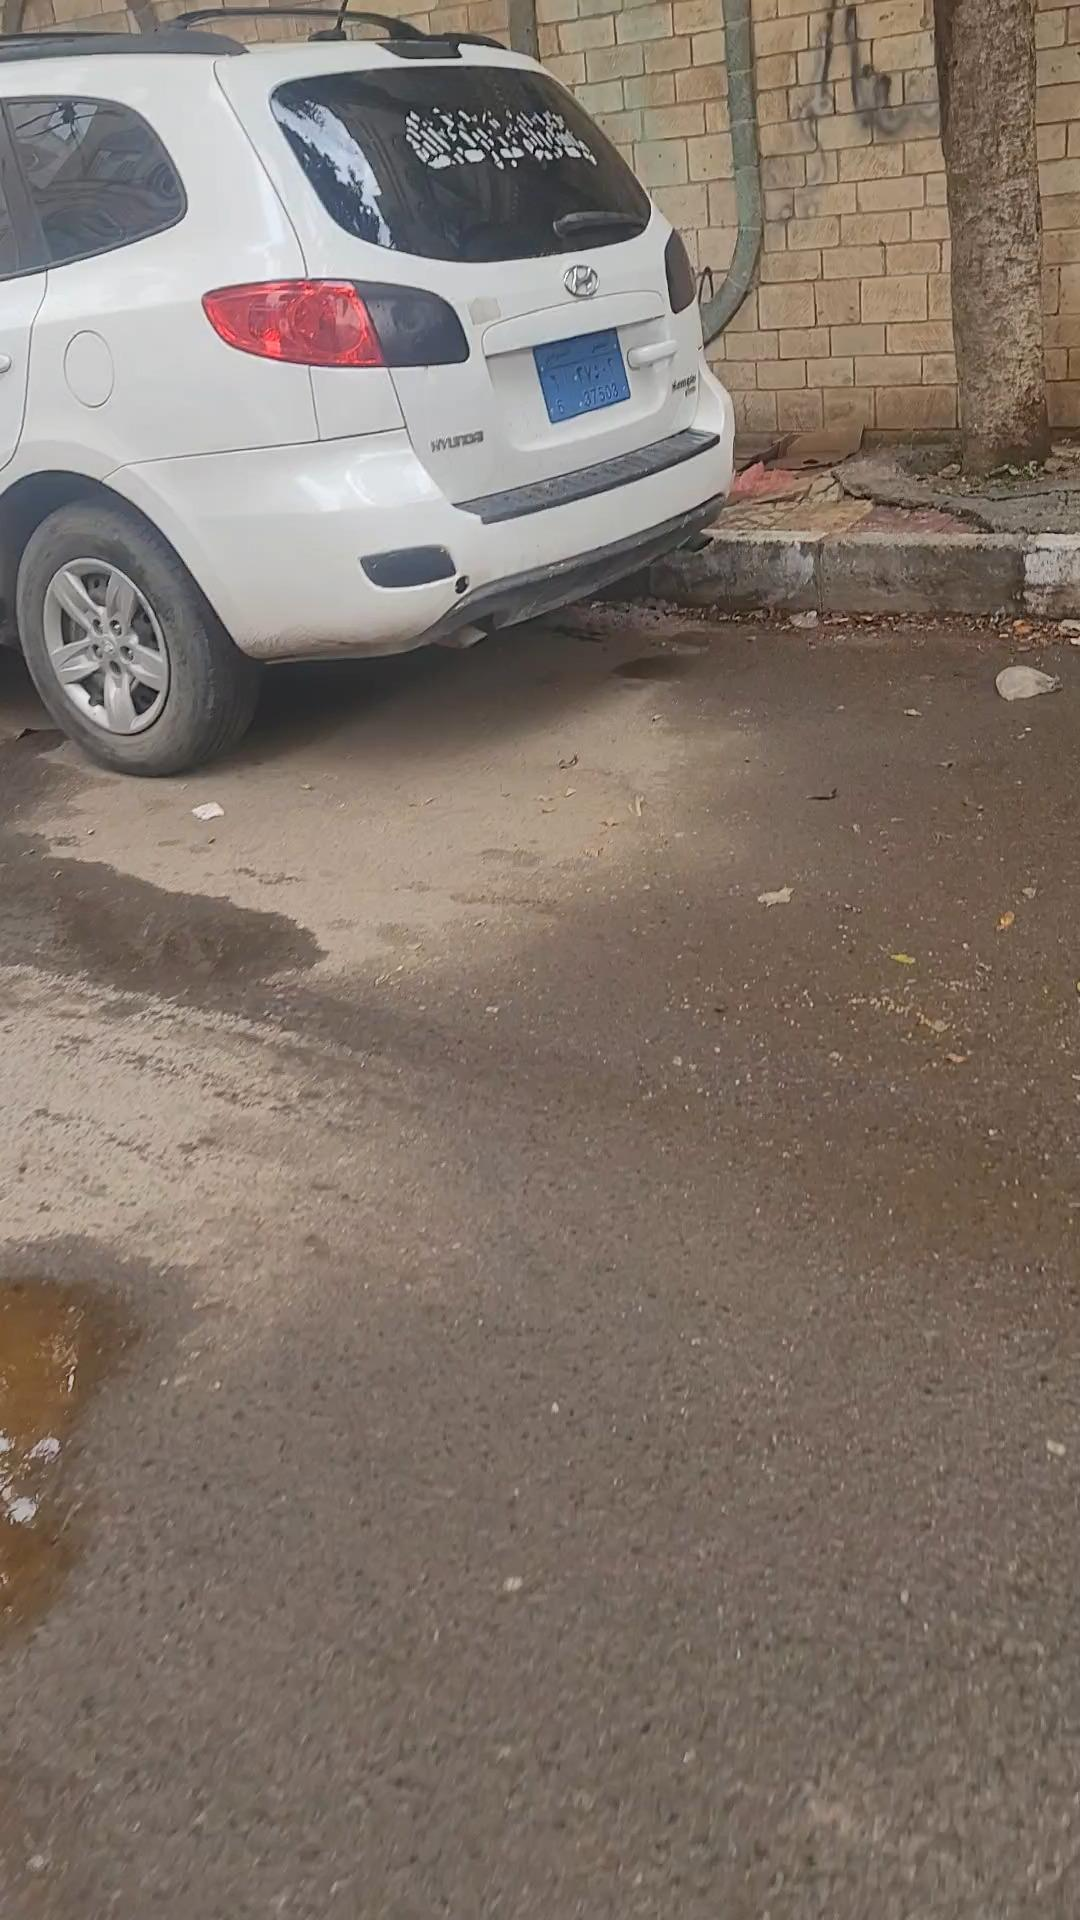privte: (533, 328, 631, 421)
